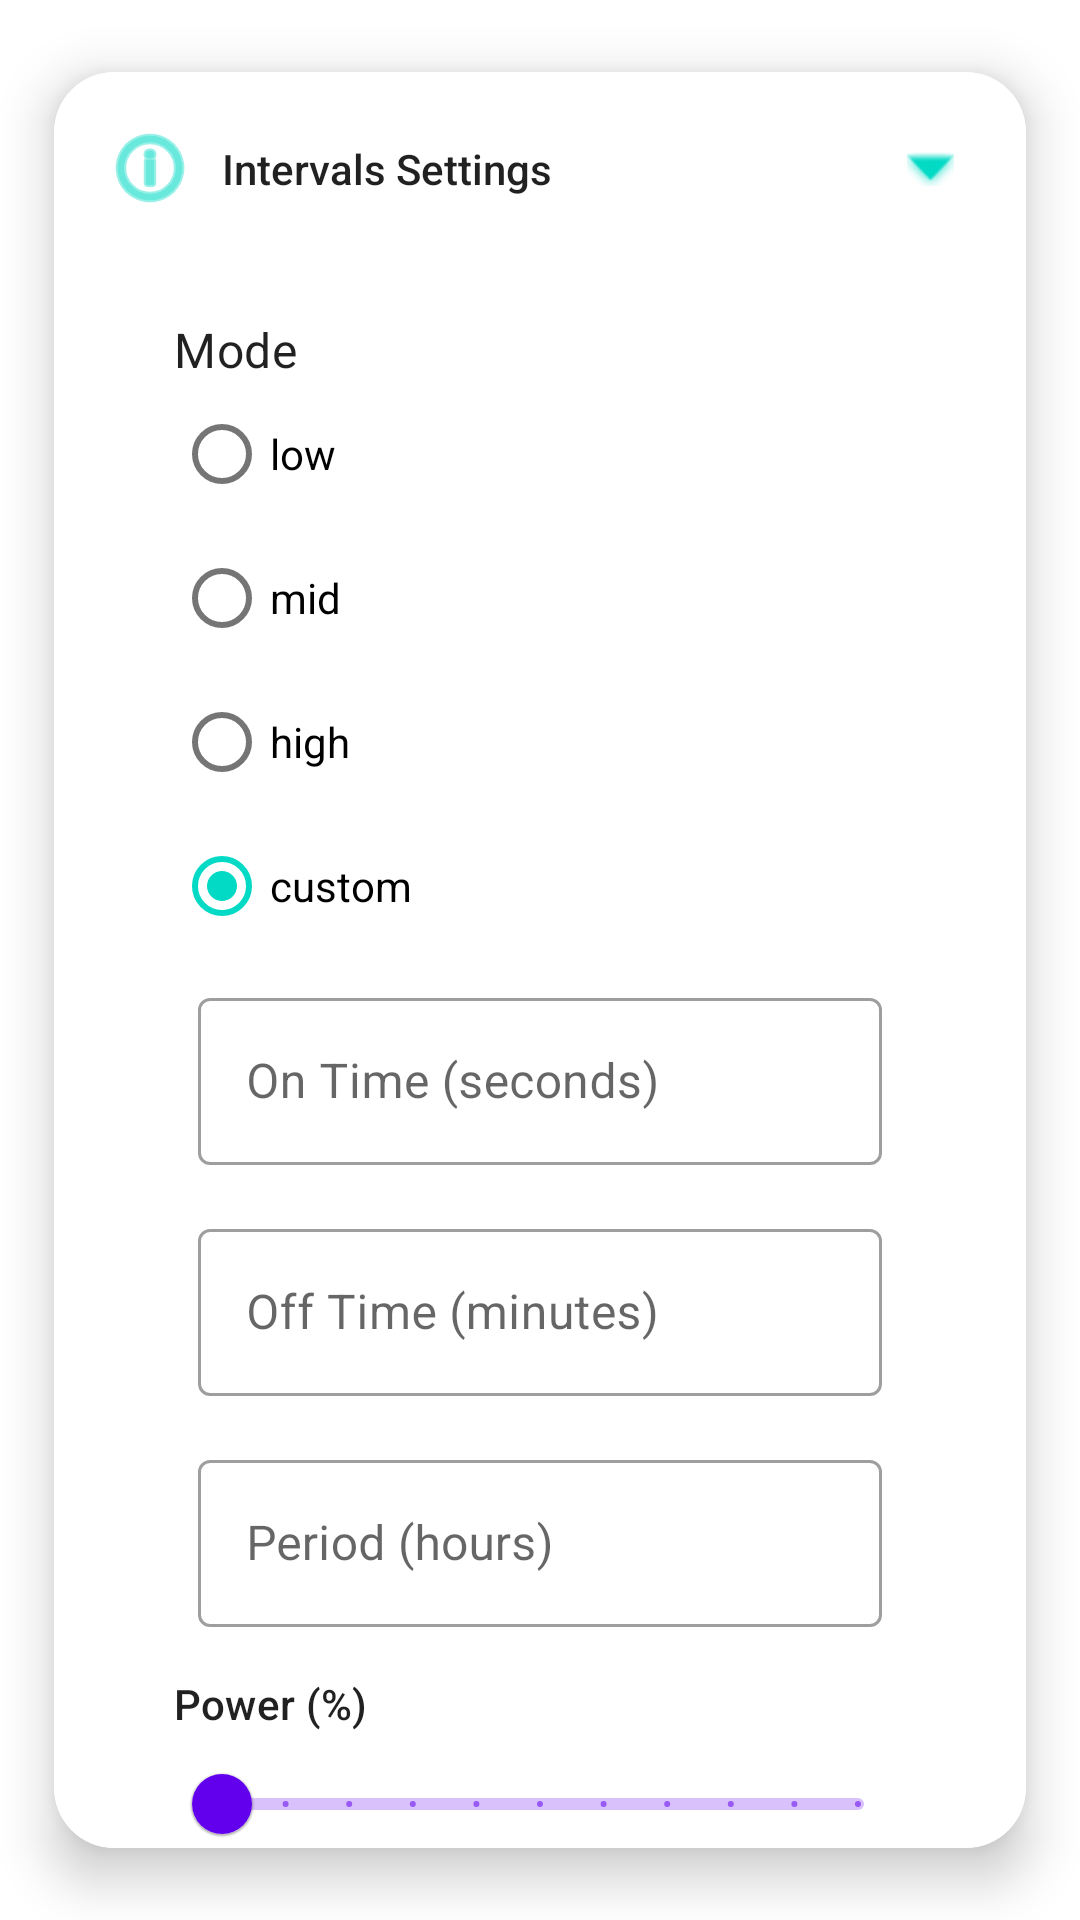

Icons on this 1080 x 1920 Android screen, each with the point to tap as point (x, y):
arrow down float: point (930, 169)
info details: point (150, 168)
